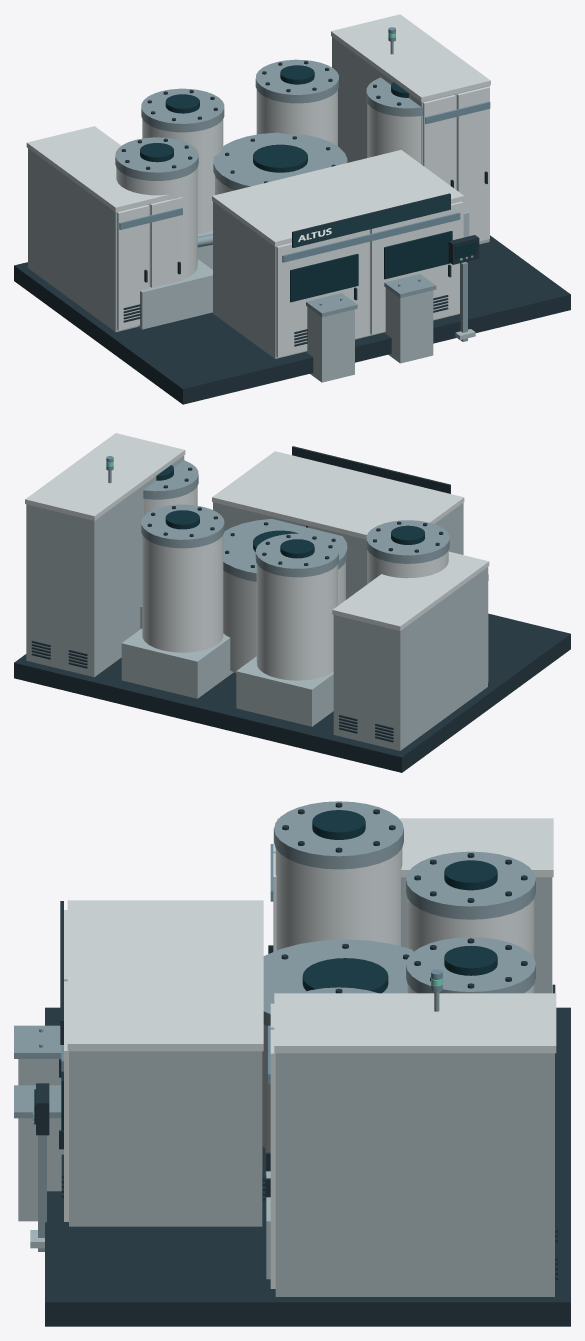
Rendered from lam-altus.glb.
3 views of the same model, one above another, from view 1: azimuth 30°, elevation 25°; view 2: azimuth 150°, elevation 25°; view 3: azimuth 270°, elevation 25° (orthographic). The views are drawn at different scales.
Visible parts, largest first — view 1: lam-altus, cabinet (×3), access_panel (×6), chassis, process_chamber (×4), load_port (×2), operator_stand, operator_panel; view 2: lam-altus, cabinet (×3), process_chamber (×5), chassis; view 3: cabinet (×3), lam-altus, chassis, process_chamber (×3), load_port (×2), access_panel (×2), operator_stand, operator_panel.
Boxes of the visible parts, bbox=[...] form: lam-altus: bbox=[26, 14, 490, 346]; cabinet (×3): bbox=[28, 37, 489, 358]; access_panel (×6): bbox=[117, 86, 489, 357]; chassis: bbox=[14, 235, 570, 404]; process_chamber (×4): bbox=[116, 89, 421, 279]; load_port (×2): bbox=[307, 288, 433, 382]; operator_stand: bbox=[460, 262, 467, 341]; operator_panel: bbox=[448, 235, 479, 264]; lam-altus: bbox=[25, 433, 489, 742]; cabinet (×3): bbox=[26, 456, 487, 750]; process_chamber (×5): bbox=[142, 486, 448, 680]; chassis: bbox=[14, 613, 570, 772]; cabinet (×3): bbox=[69, 877, 554, 1296]; lam-altus: bbox=[14, 801, 557, 1279]; chassis: bbox=[45, 1007, 570, 1326]; process_chamber (×3): bbox=[262, 848, 534, 1175]; load_port (×2): bbox=[18, 1059, 63, 1221]; access_panel (×2): bbox=[64, 981, 275, 1288]; operator_stand: bbox=[38, 1135, 46, 1251]; operator_panel: bbox=[36, 1083, 49, 1135].
Bounding box in the file's own units: 5.74 × 2.91 × 4.59.
8 materials, 1 textured.
